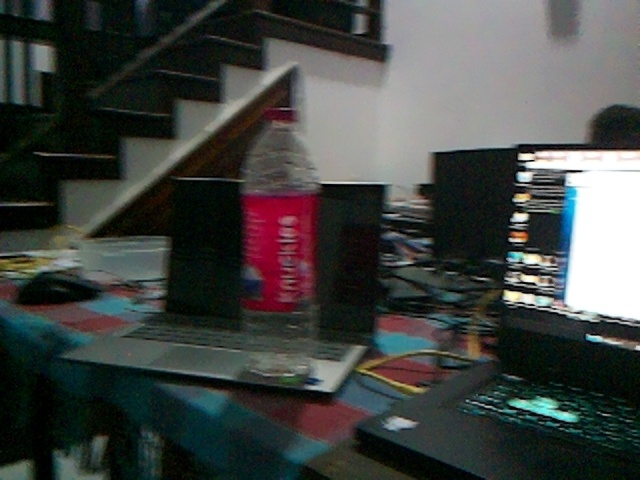bottle: (235, 105, 322, 378)
